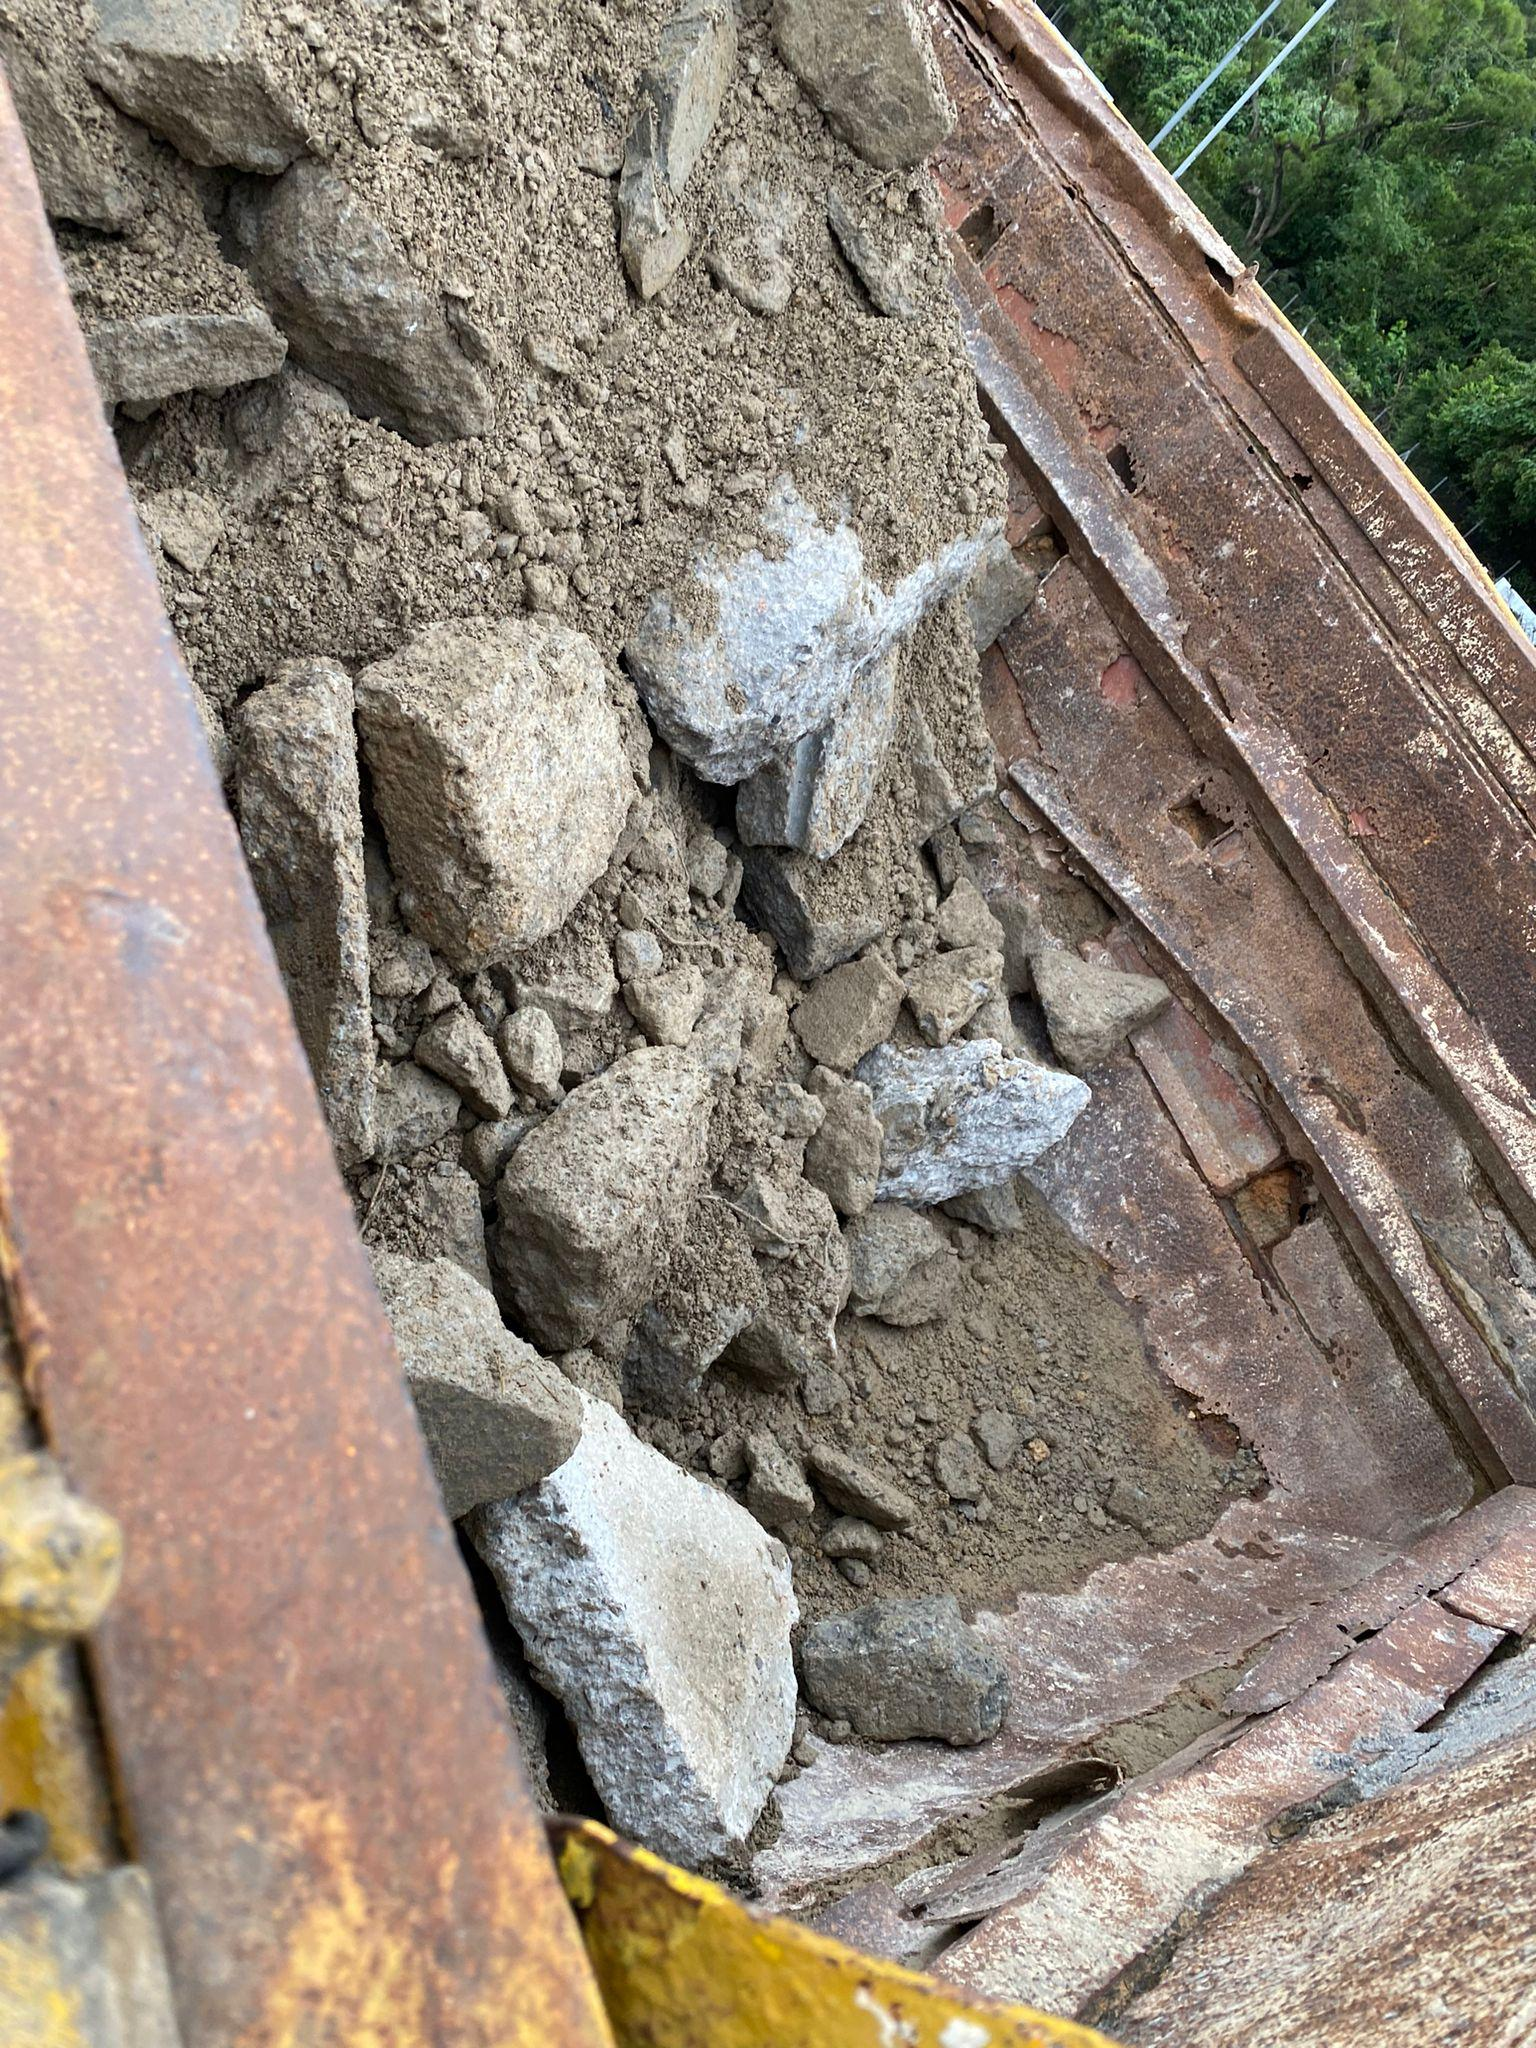dry: (13, 6, 1107, 1827)
